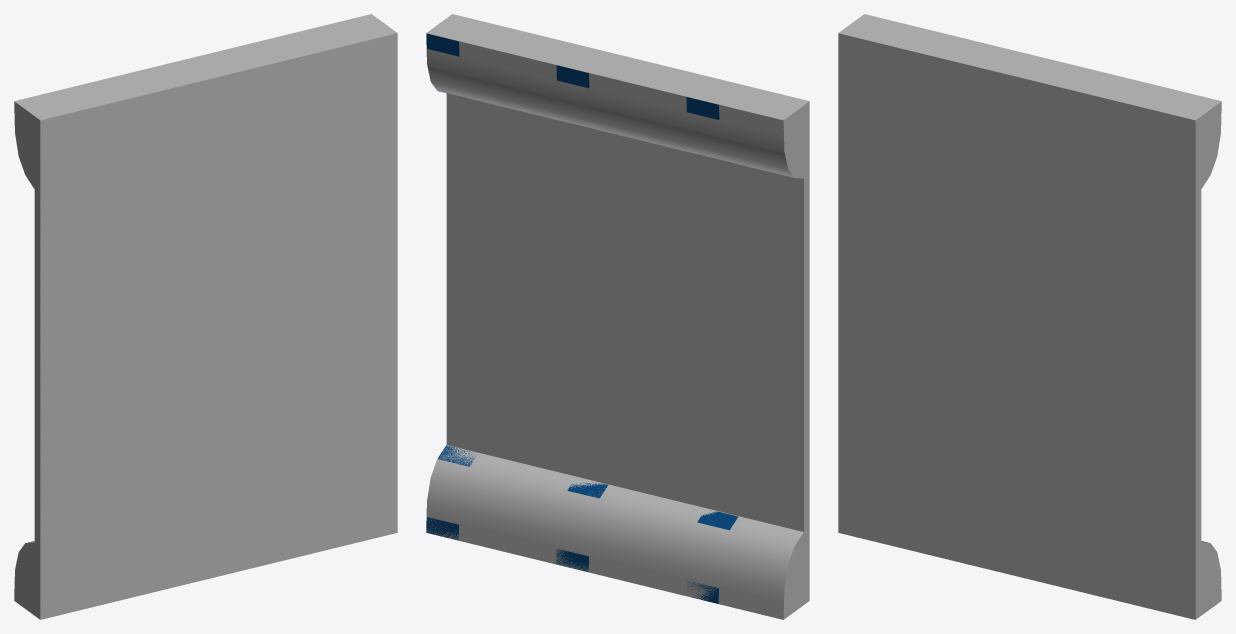
The model's file is Basement_Wall_S.fbx.
3 renders of one model, left to right at view 1: azimuth 30°, elevation 25°; view 2: azimuth 150°, elevation 25°; view 3: azimuth 330°, elevation 25°, orthographic.
Parts seen in each view (by area): view 1: Basemenet_Wall_S; view 2: Basemenet_Wall_S; view 3: Basemenet_Wall_S.
Part boxes in pixels (<box>): Basemenet_Wall_S: <box>14,14,397,619</box>; Basemenet_Wall_S: <box>426,14,809,619</box>; Basemenet_Wall_S: <box>838,14,1221,619</box>.
Bounding box in the file's own units: 150 × 200 × 19.08.
